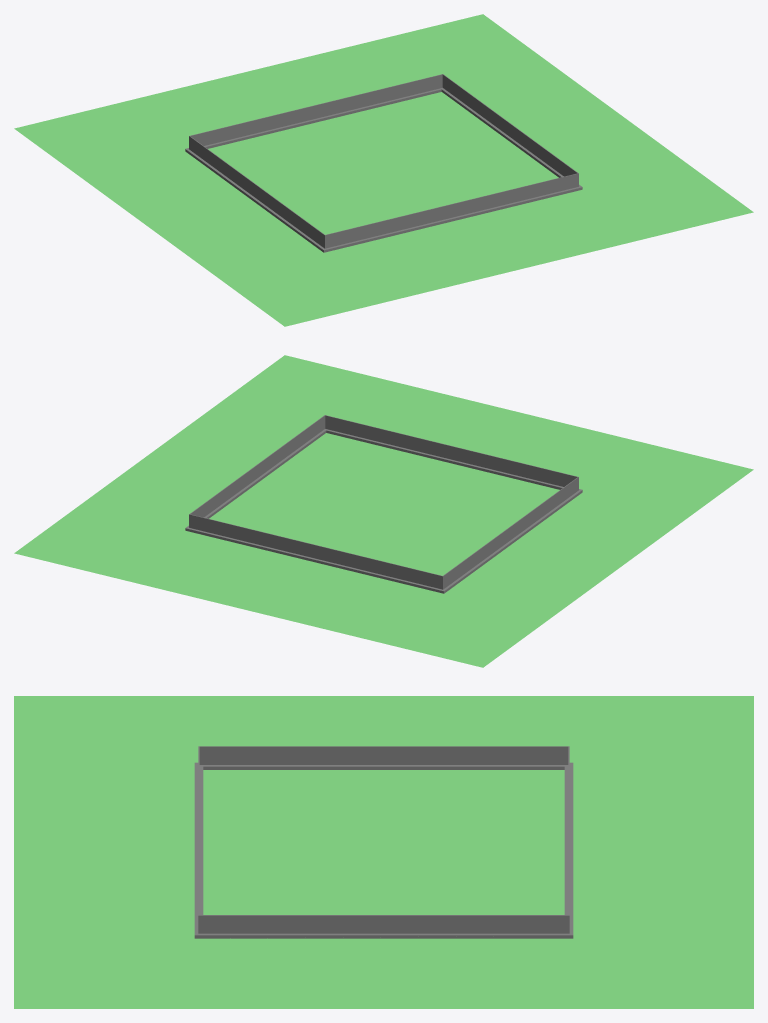
File: tns_Field_b.glb
3 renders of one model, top to bottom at view 1: azimuth 30°, elevation 25°; view 2: azimuth 150°, elevation 25°; view 3: azimuth 270°, elevation 25°, orthographic. The views are drawn at different scales.
Visible parts, largest first — view 1: collision_0x0001, collision_0x0002; view 2: collision_0x0001, collision_0x0002; view 3: collision_0x0001, collision_0x0002.
Part boxes in pixels (left/top/right/bottom): collision_0x0001: left=14, top=14, right=753, bottom=326; collision_0x0002: left=185, top=74, right=582, bottom=252; collision_0x0001: left=14, top=355, right=753, bottom=667; collision_0x0002: left=185, top=415, right=582, bottom=593; collision_0x0001: left=14, top=696, right=753, bottom=1008; collision_0x0002: left=194, top=746, right=573, bottom=938.
Bounding box in the file's own units: 1000 × 32.16 × 1000.
